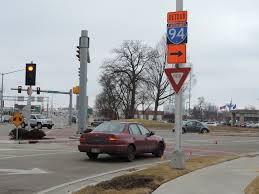yield_sign: (162, 67, 190, 92)
